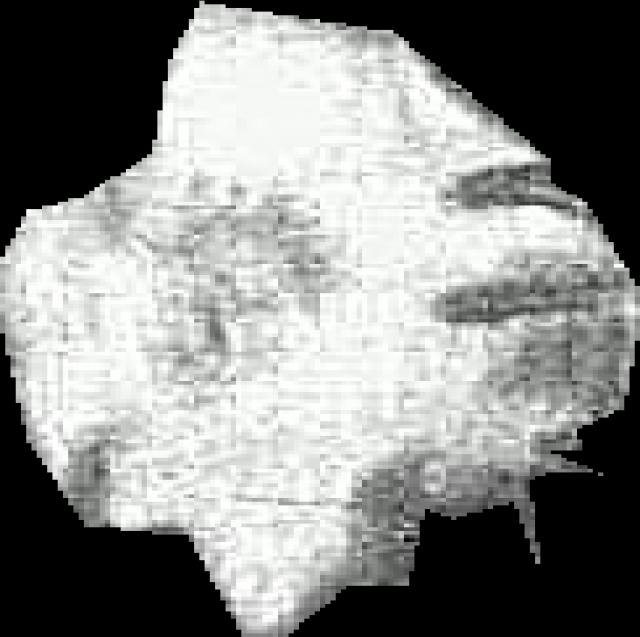tumor_less_chance: (0, 1, 640, 637)
